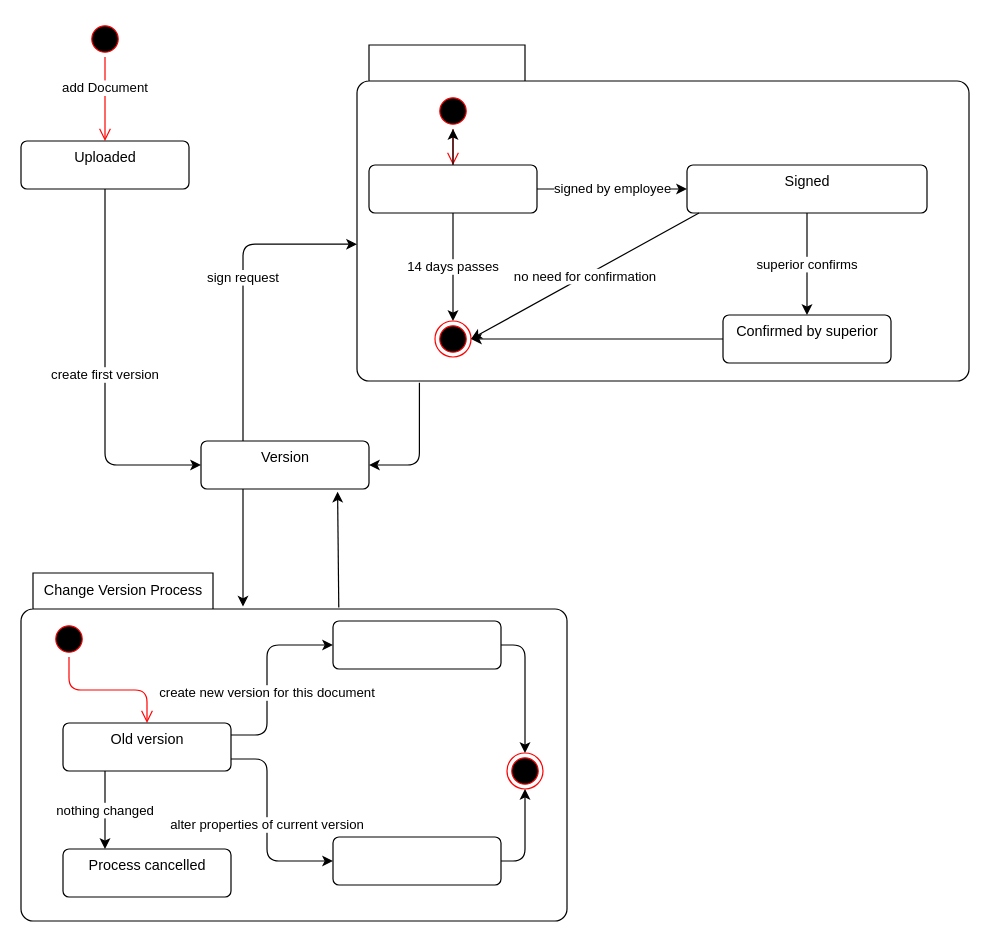
This 990x942 diagram has some shape labels left out. The shapes that lost their labels are listed below. From the top down, each one's box as (x1, y1, x2, y2) in pixels, then its label:
(368, 164, 537, 213): Waiting to be signed
(356, 44, 969, 381): Signing Process
(332, 620, 501, 669): New Version
(332, 836, 501, 885): Altered Old Version
